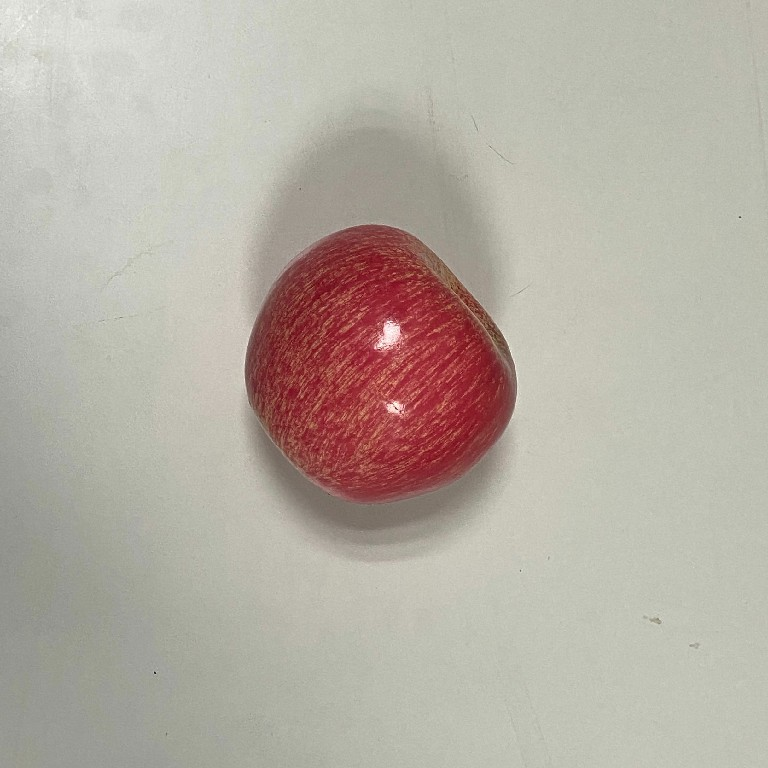fruit_apple: (237, 217, 523, 511)
